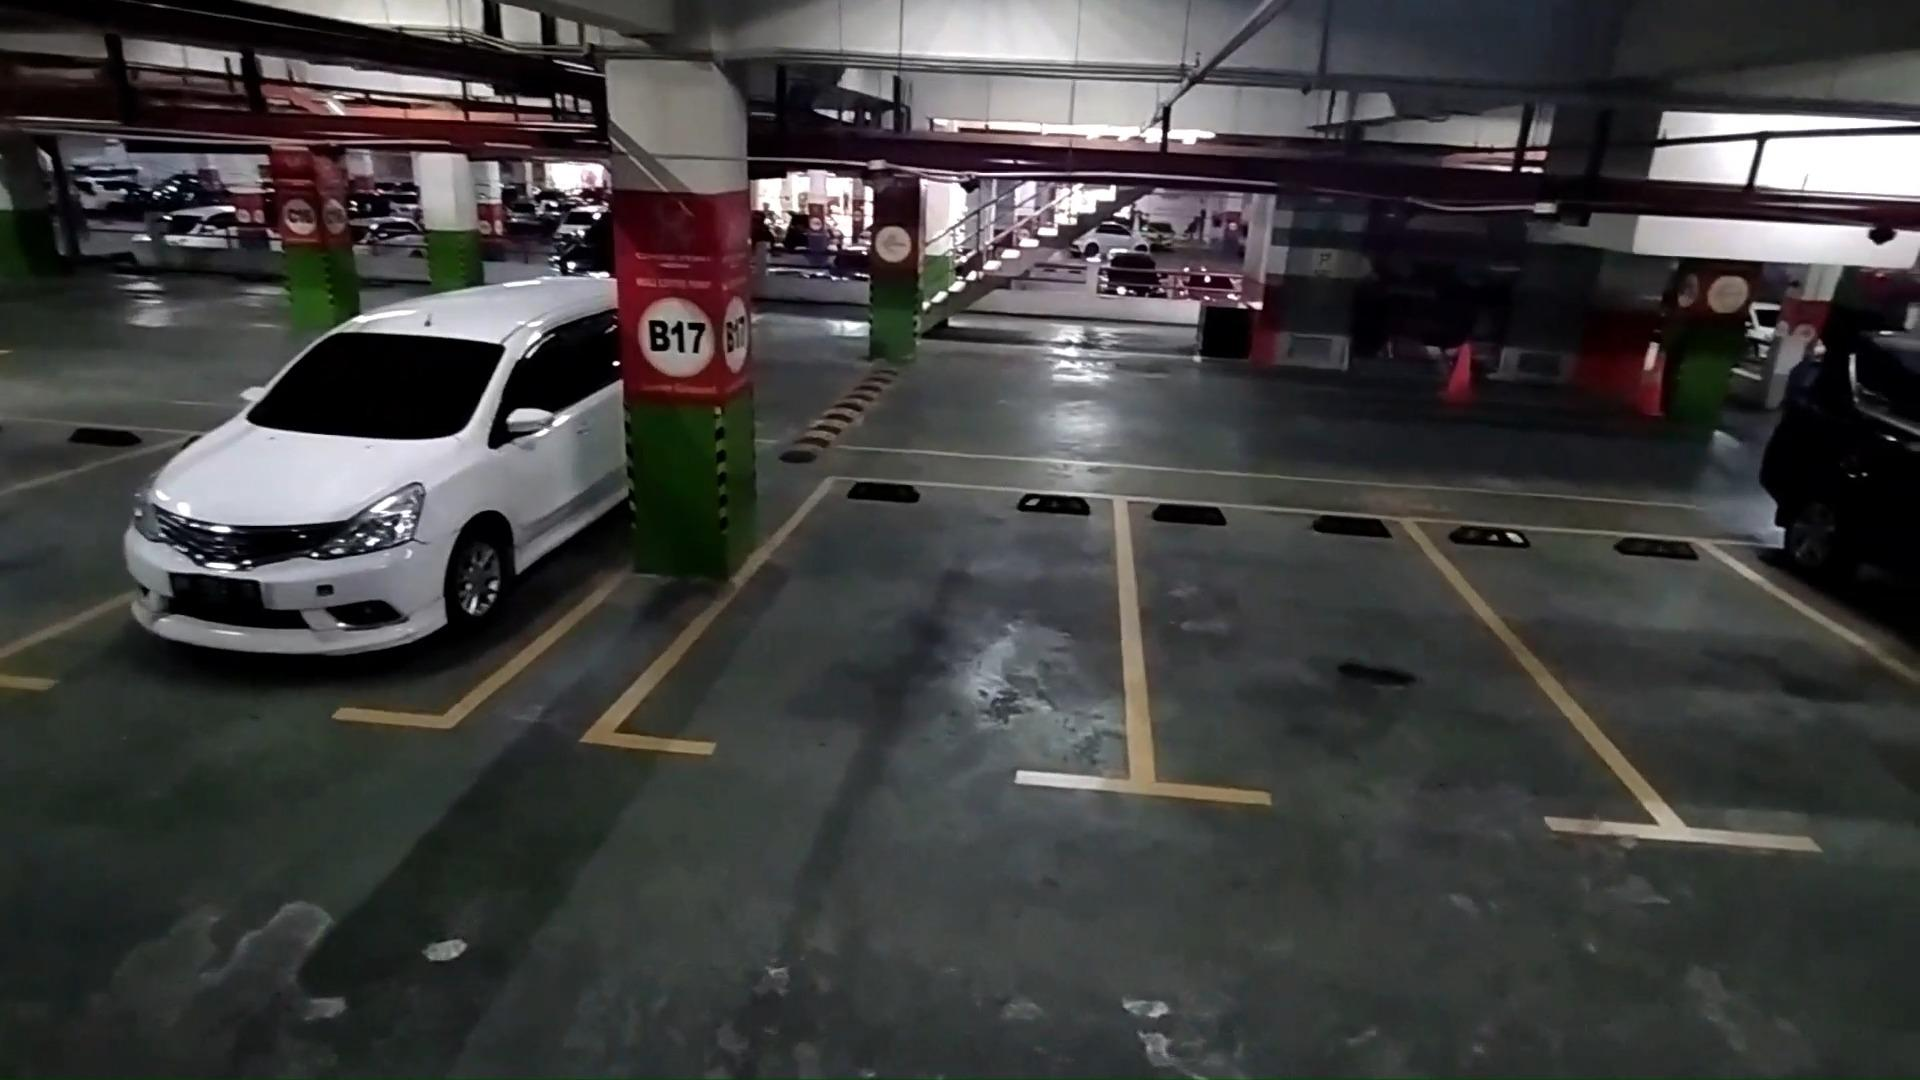empty: (1122, 502, 1586, 835), (636, 483, 1134, 789), (1545, 524, 1896, 848)
occupied: (86, 355, 573, 731)
